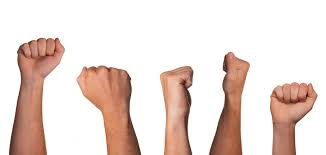fist: (77, 65, 134, 107), (272, 79, 313, 126), (13, 37, 67, 72), (159, 64, 199, 109), (217, 53, 253, 92)
